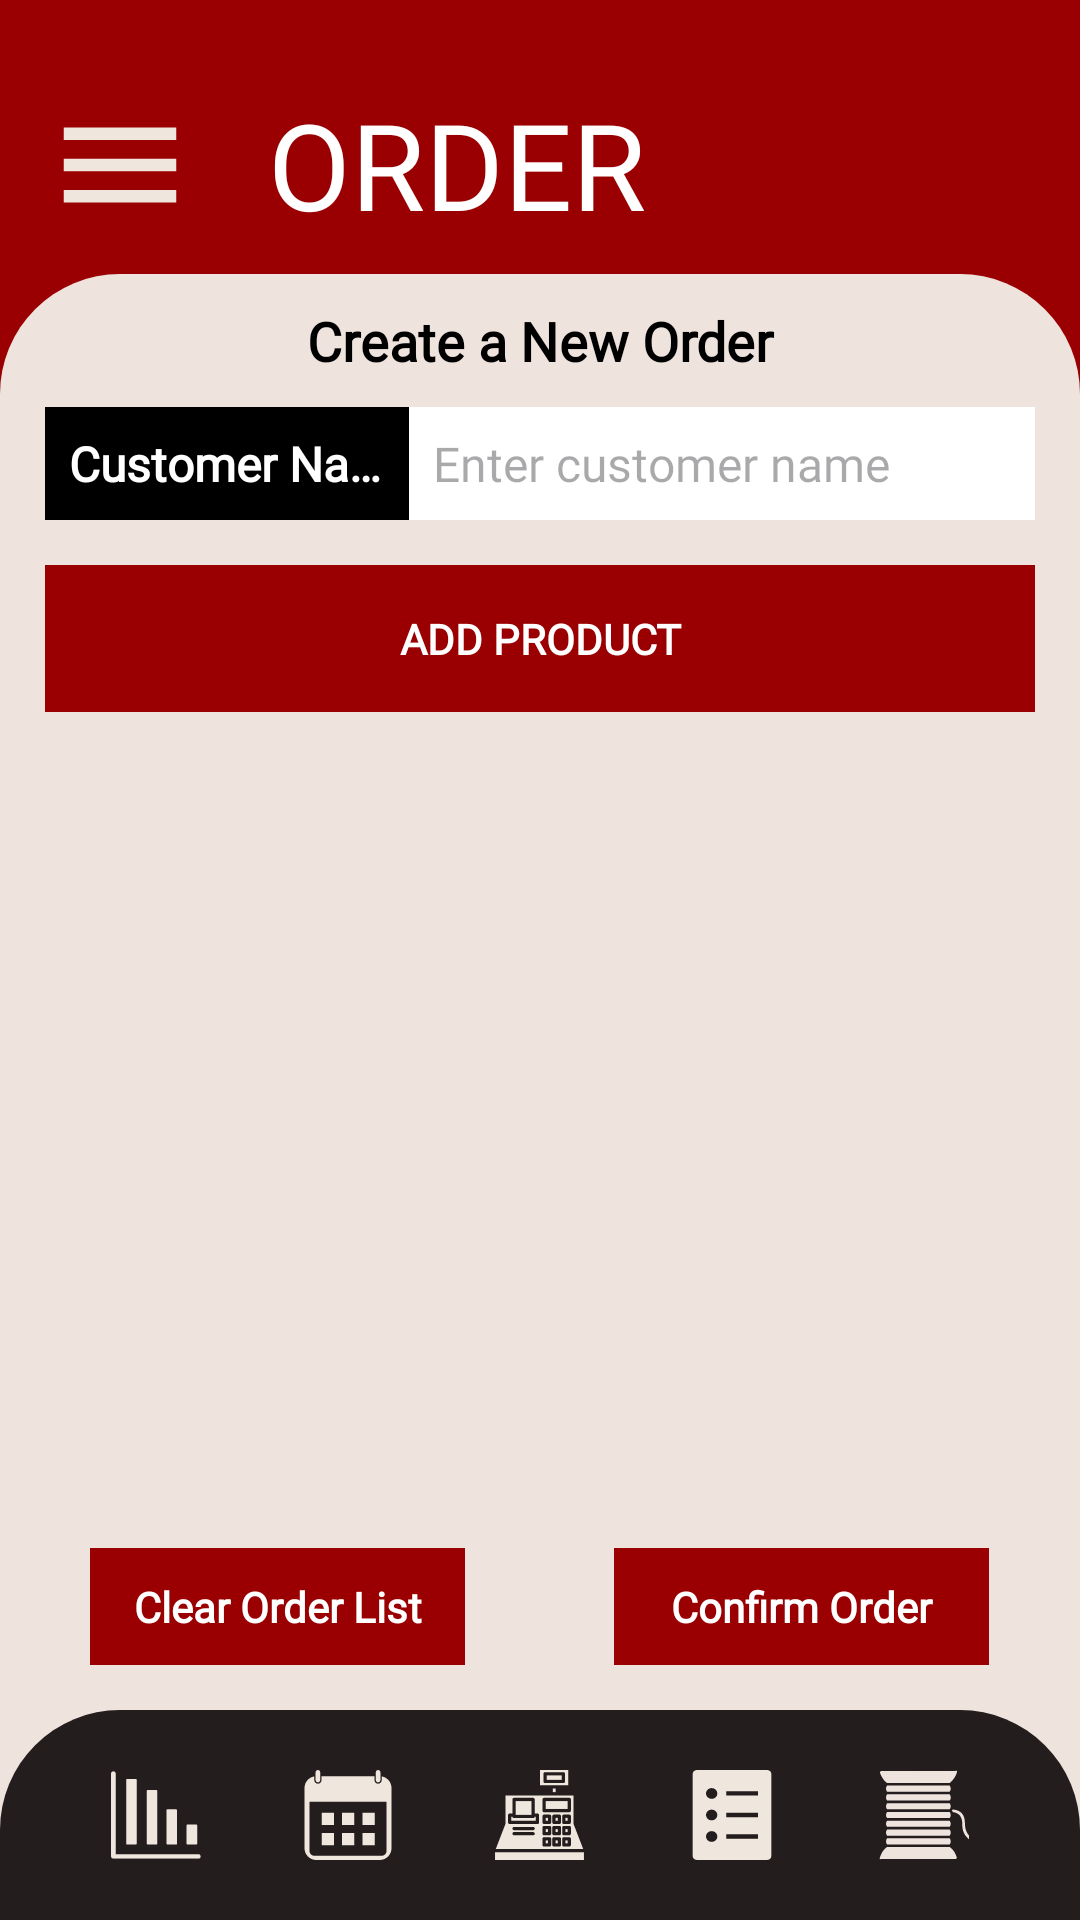

Icon bounding boxes for this 1080 x 1920 phone screenshot, format (x1, y1, x2, y2):
materials: (879, 1770, 969, 1860)
Menu: (63, 127, 177, 203)
